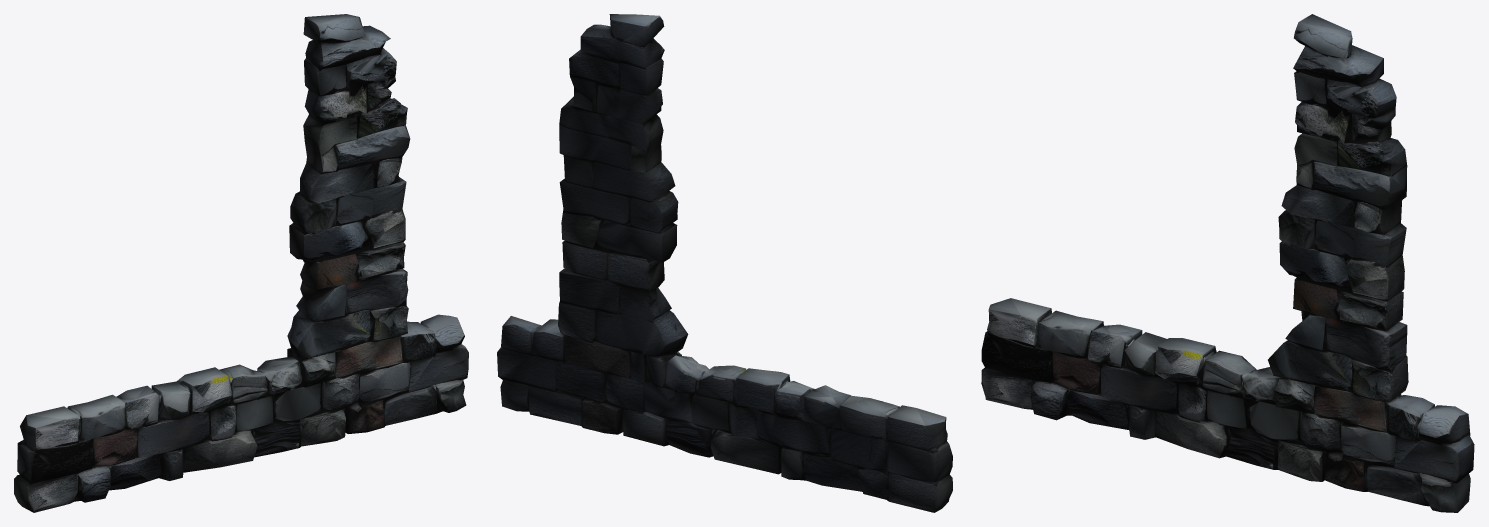
File: wall.glb
3 views of the same model, side by side, from view 1: azimuth 30°, elevation 25°; view 2: azimuth 150°, elevation 25°; view 3: azimuth 330°, elevation 25° (orthographic). The views are drawn at different scales.
Visible parts, largest first — view 1: node_0; view 2: node_0; view 3: node_0.
Part boxes in pixels (x1,y1,x2,y2): node_0: [14, 14, 468, 512]; node_0: [497, 14, 952, 512]; node_0: [981, 14, 1474, 512].
Bounding box in the file's own units: 71.89 × 65 × 6.62.
Materials: 1 (1 with a texture image).
